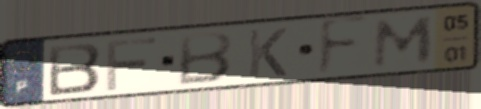B: (174, 29, 236, 87), (46, 40, 105, 98)
F: (314, 13, 372, 81), (104, 35, 160, 93)
K: (245, 25, 290, 79)
M: (370, 14, 438, 70)
